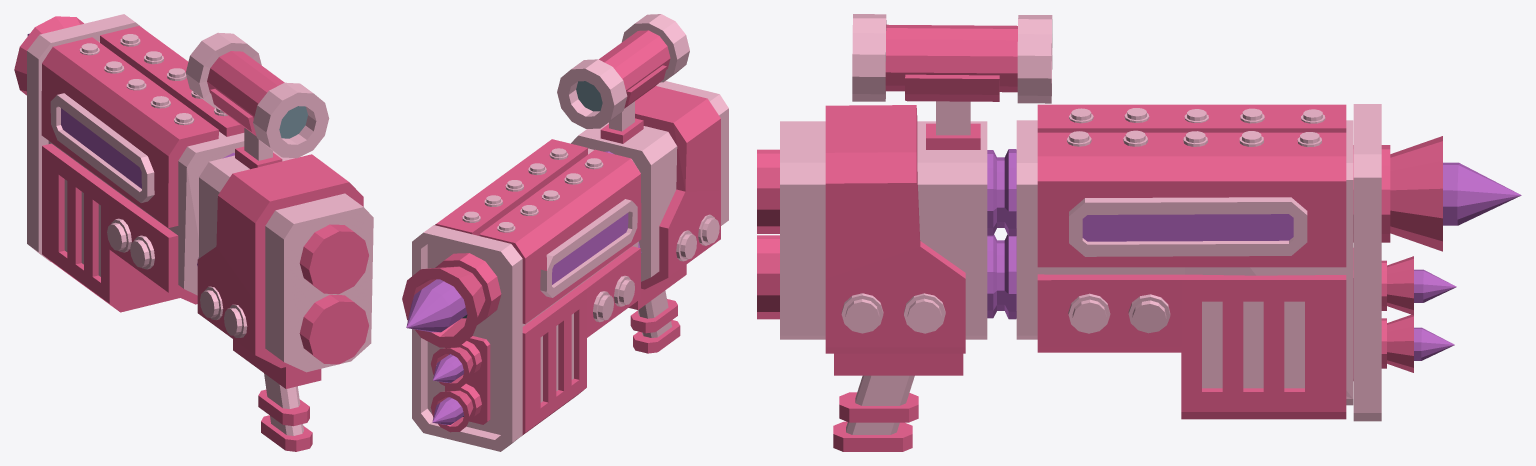
Rendered from scene_vj4kS1jUEP.glb.
3 renders of one model, left to right at view 1: azimuth 30°, elevation 25°; view 2: azimuth 150°, elevation 25°; view 3: azimuth 270°, elevation 25°, orthographic. The views are drawn at different scales.
Parts seen in each view (by area): view 1: Node; view 2: Node; view 3: Node.
Part boxes in pixels (x1=…): Node: x1=14, y1=14, x2=373, y2=451; Node: x1=402, y1=14, x2=728, y2=451; Node: x1=757, y1=14, x2=1521, y2=451.
Bounding box in the file's own units: 0.3633 × 0.9497 × 1.54.
